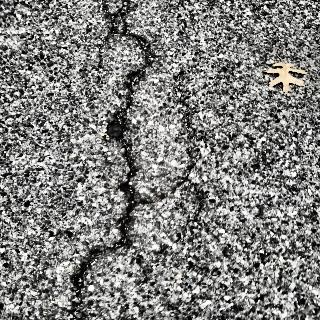crack: (29, 0, 189, 317)
